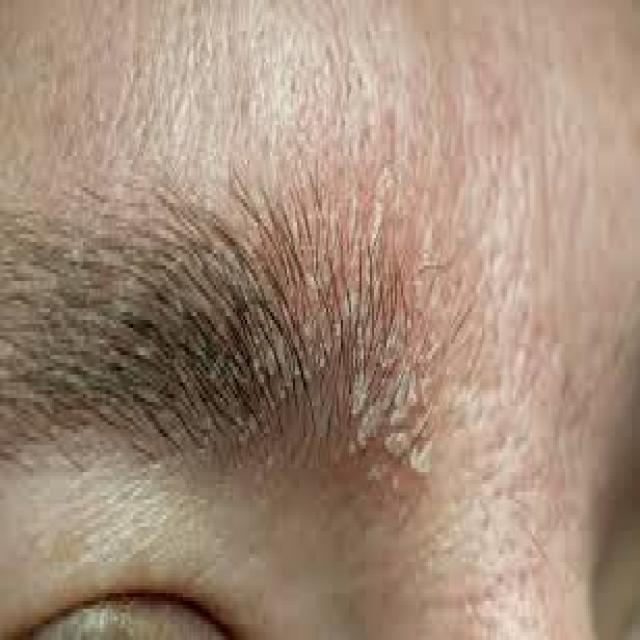flakiness: (353, 326, 440, 499)
